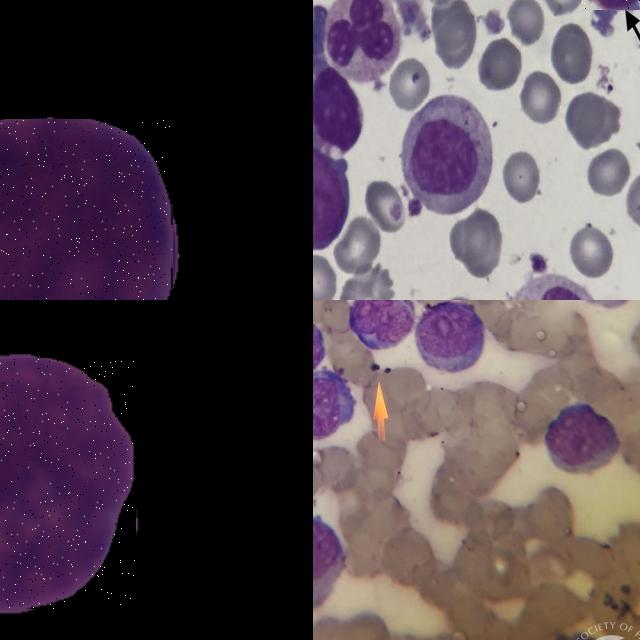ALL Negative Cells: (0, 358, 135, 609), (392, 94, 497, 224), (492, 269, 597, 300)
ALL Positive Cell: (0, 119, 172, 300), (548, 401, 624, 475), (313, 72, 374, 157), (313, 146, 352, 250), (343, 300, 409, 359), (415, 302, 484, 357), (313, 369, 350, 435), (313, 518, 341, 597), (313, 312, 331, 373)
